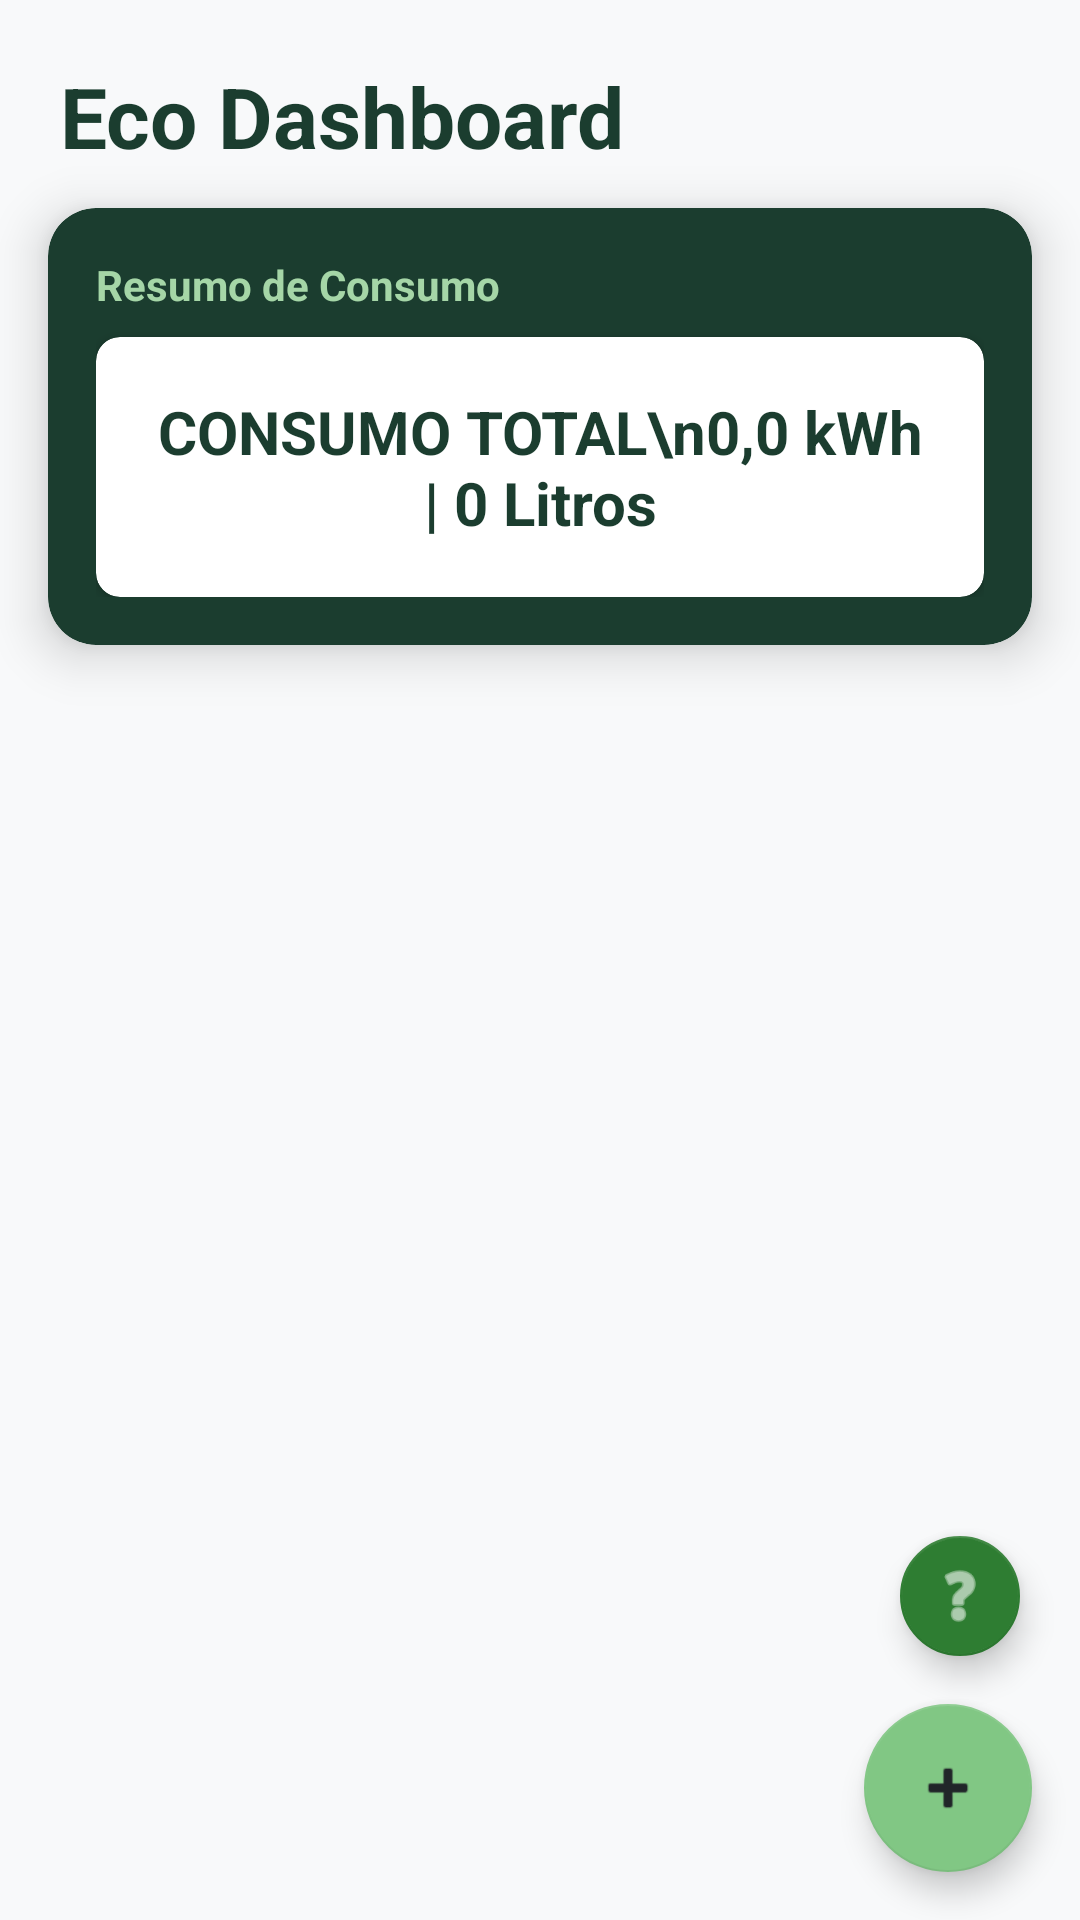

Screen size 1080*1920. Icon name, then its center in pixels as (x,y):
add: (948,1788)
help: (961,1602)
